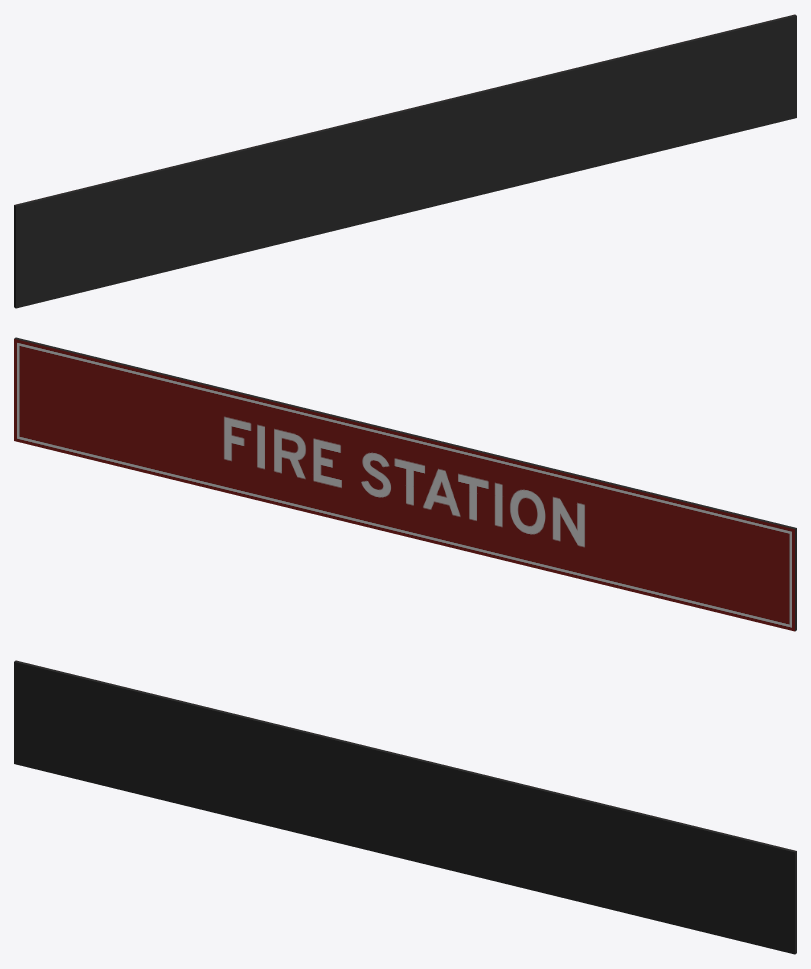
Rendered from storefront_sign_fire_station.glb.
The picture shows the model from 3 angles, top to bottom: view 1: azimuth 30°, elevation 25°; view 2: azimuth 150°, elevation 25°; view 3: azimuth 330°, elevation 25°; orthographic projection.
Parts seen in each view (by area): view 1: sign_fire_station_back; view 2: sign_fire_station, sign_fire_station_back; view 3: sign_fire_station_back.
Part boxes in pixels (box(x1,y1,x2,y2)): sign_fire_station_back: box(14, 14, 796, 308); sign_fire_station: box(14, 339, 794, 631); sign_fire_station_back: box(14, 337, 796, 631); sign_fire_station_back: box(14, 660, 796, 954).
Bounding box in the file's own units: 4.8 × 0.6 × 0.0205.
2 materials, 1 textured.
